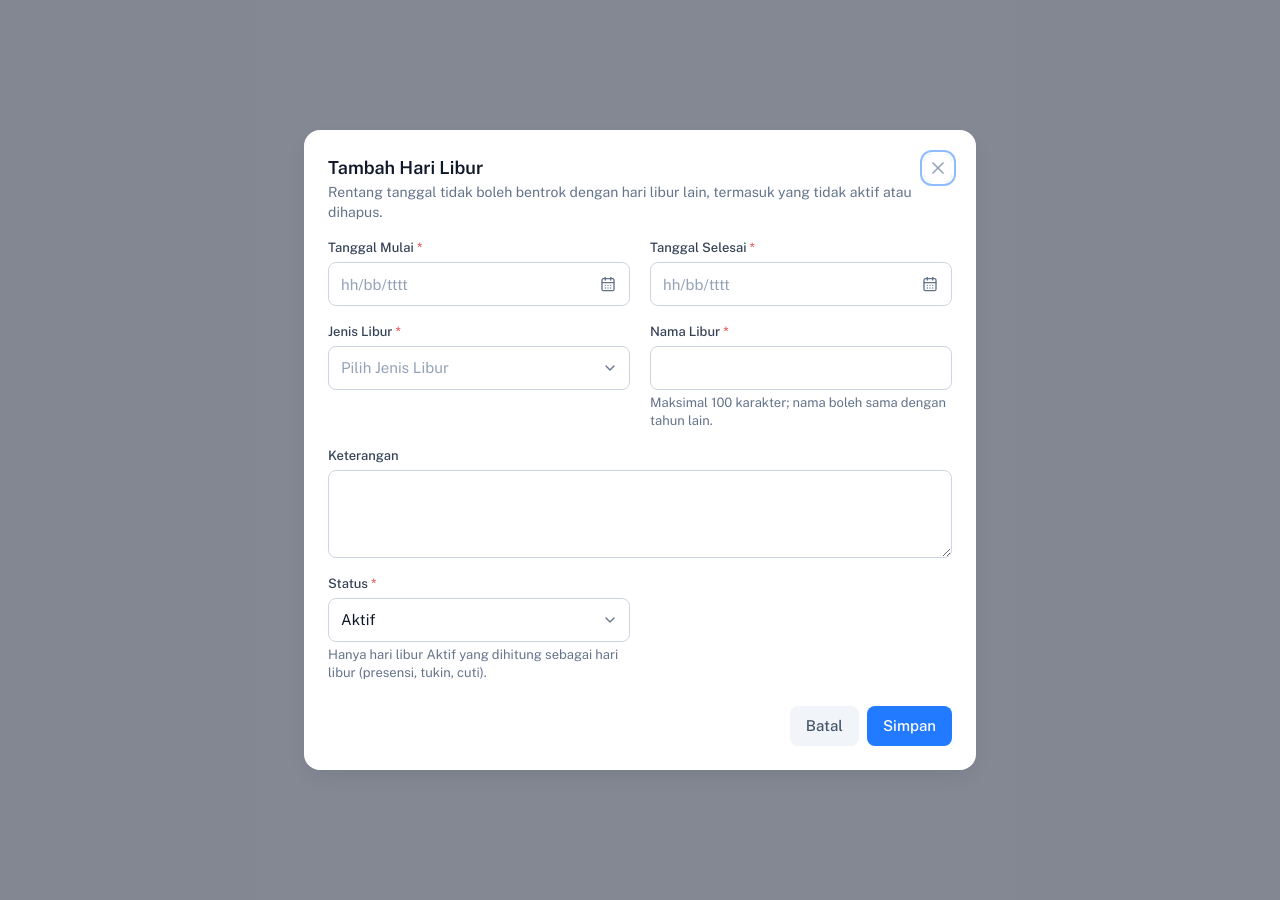
Test case: HariLiburFormDialog › tanggal mulai diketik per digit: tanggal selesai ikut tahun akhir, berhenti mengikuti setelah disentuh
Type "0002-08-17" into the field named "tgl_mulai".
click(479, 284); type("0002-08-17")  # box [328, 262, 630, 306]
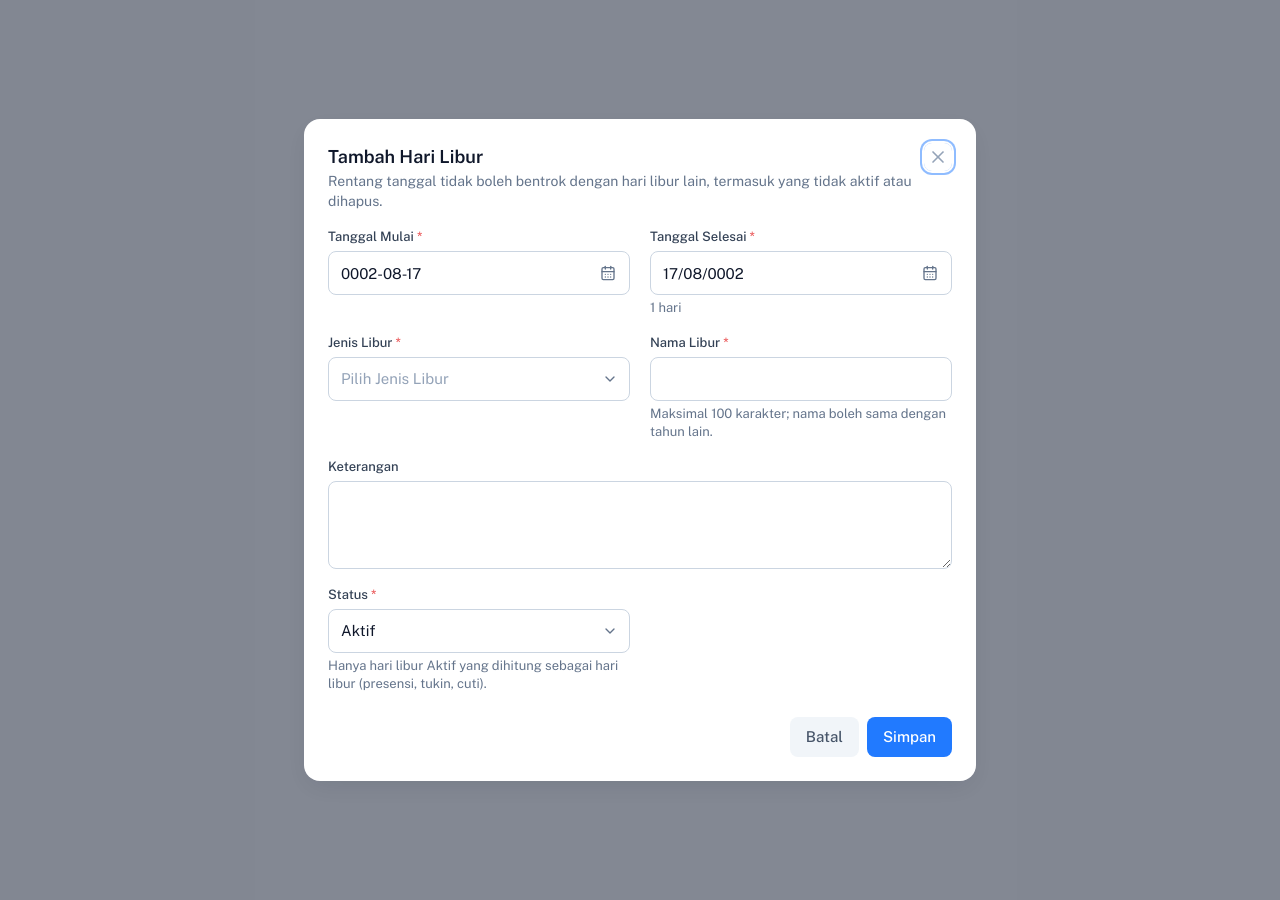
Replace the text in the field named "tgl_mulai" with "0020-08-17" at (479, 273), box [328, 251, 630, 295]
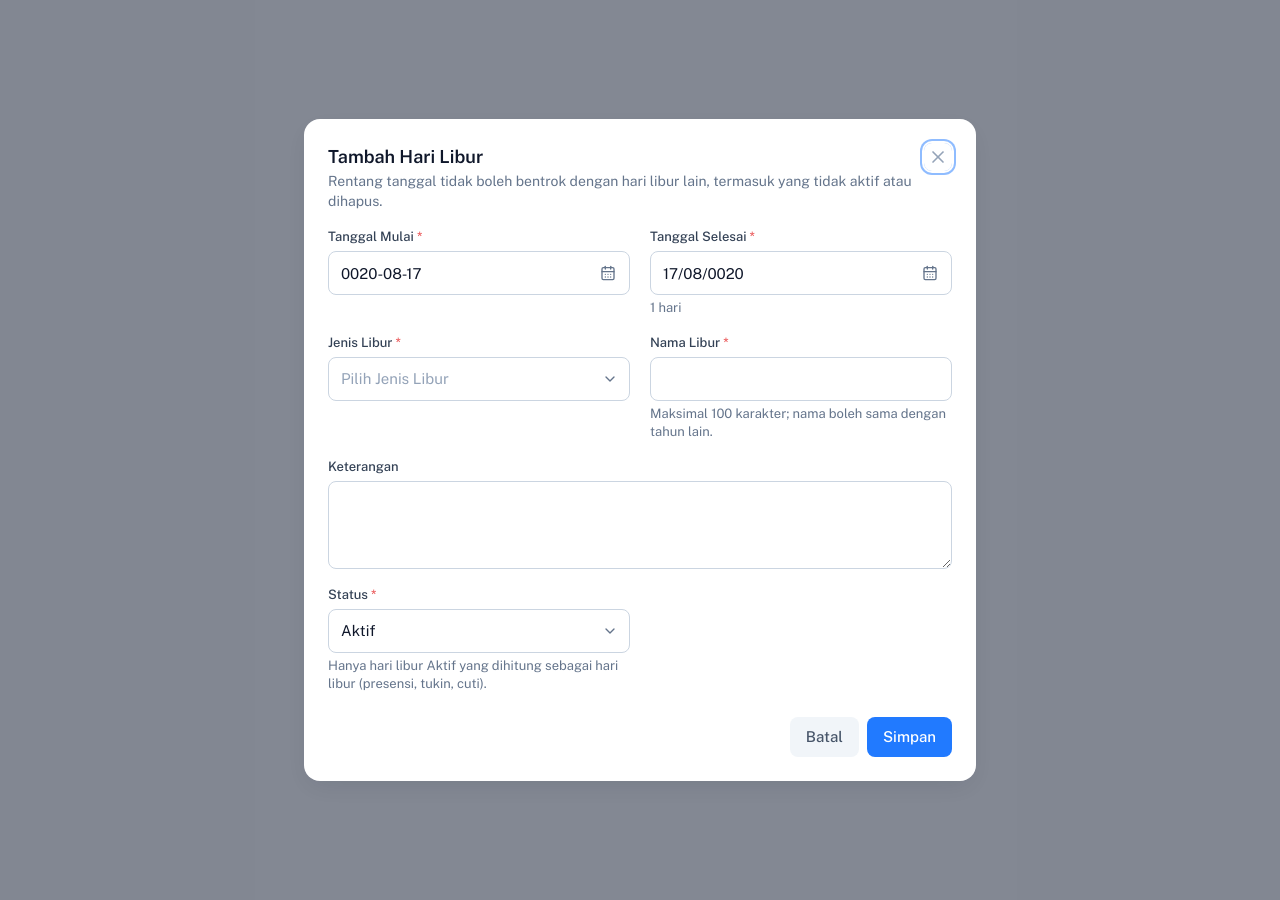
Replace the text in the field named "tgl_mulai" with "0202-08-17" at (479, 273), box [328, 251, 630, 295]
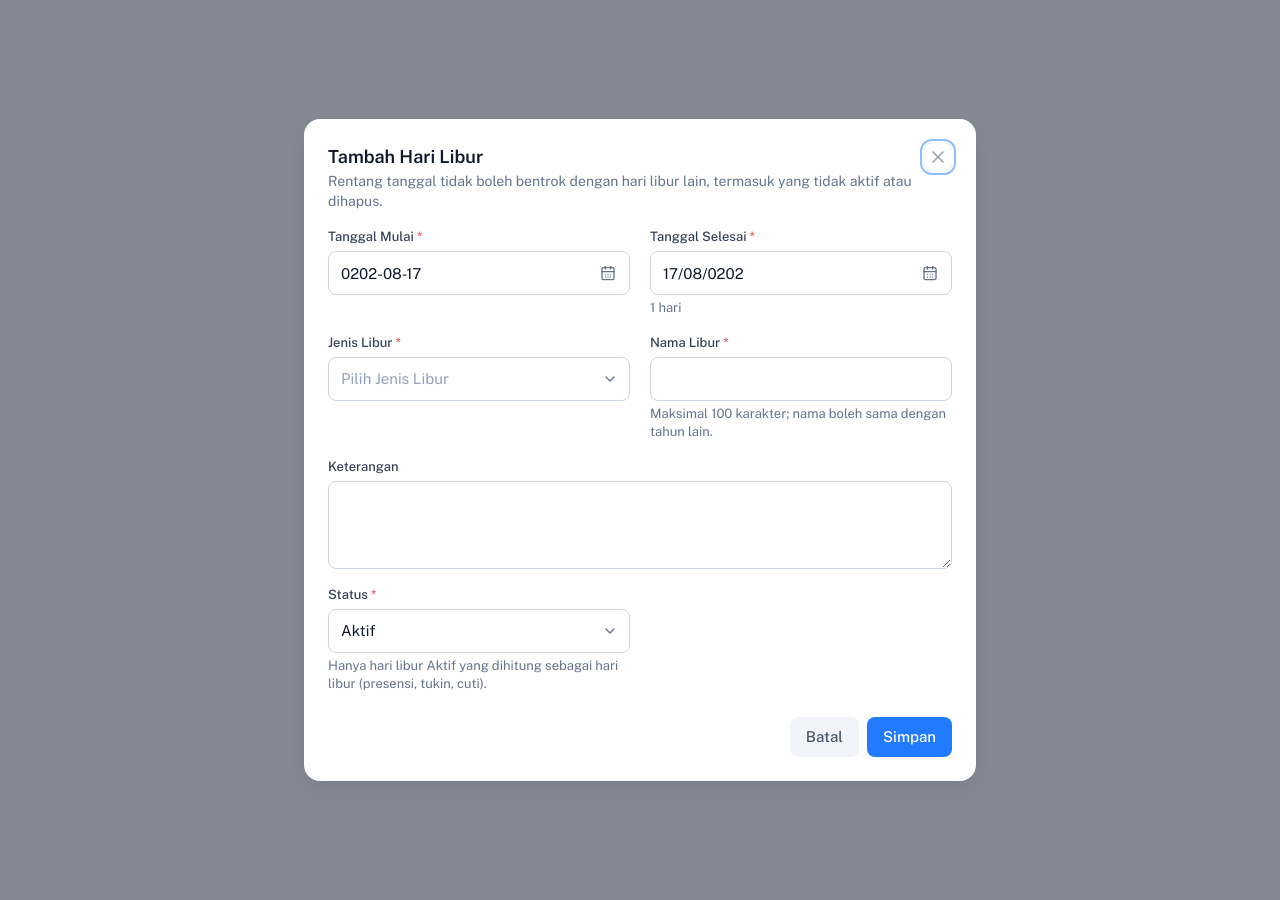
Replace the text in the field named "tgl_mulai" with "2026-08-17" at (479, 273), box [328, 251, 630, 295]
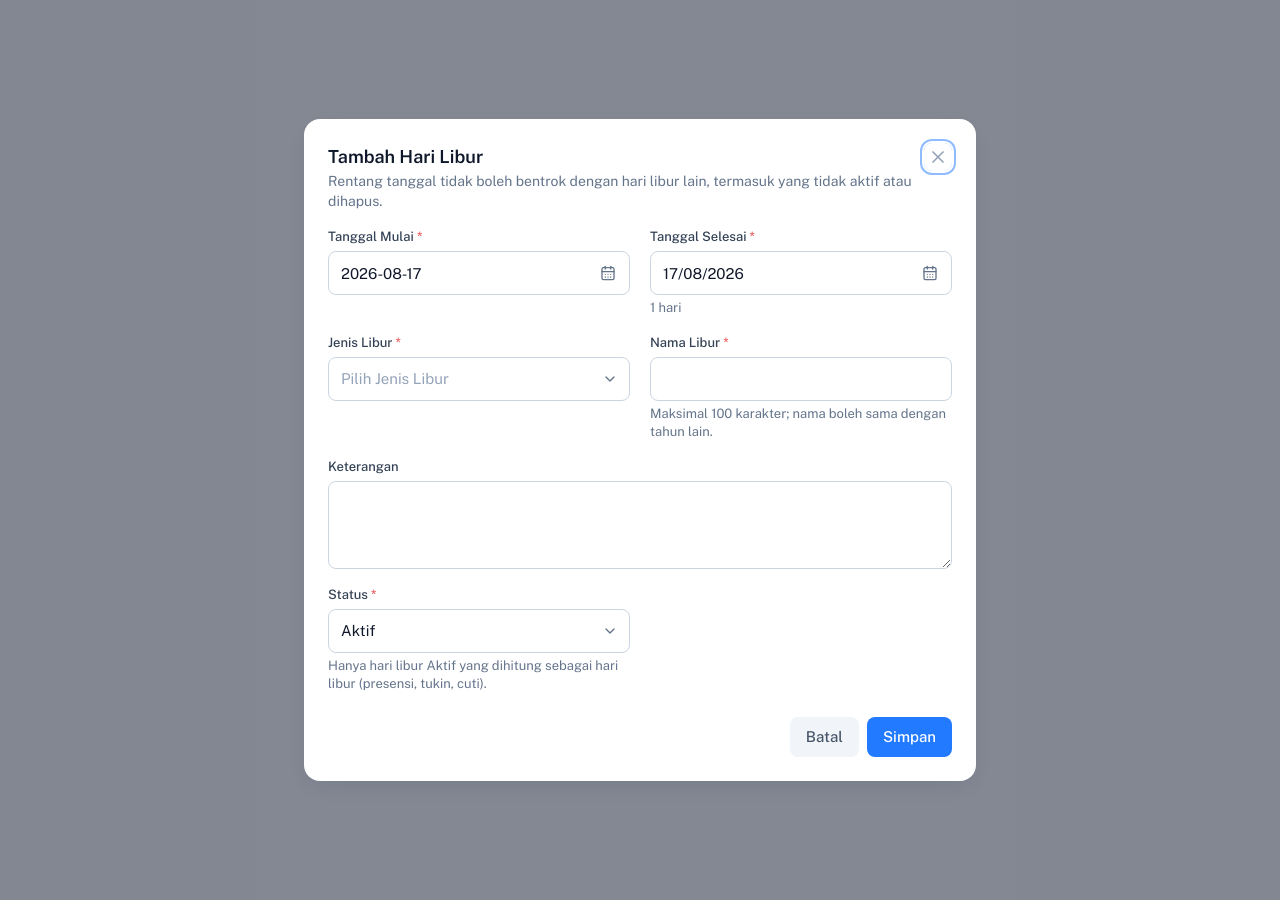
Check: the field named "tgl_akhir" holds "17/08/2026"
Replace the text in the field named "tgl_akhir" with "2026-08-17" at (801, 273), box [650, 251, 952, 295]
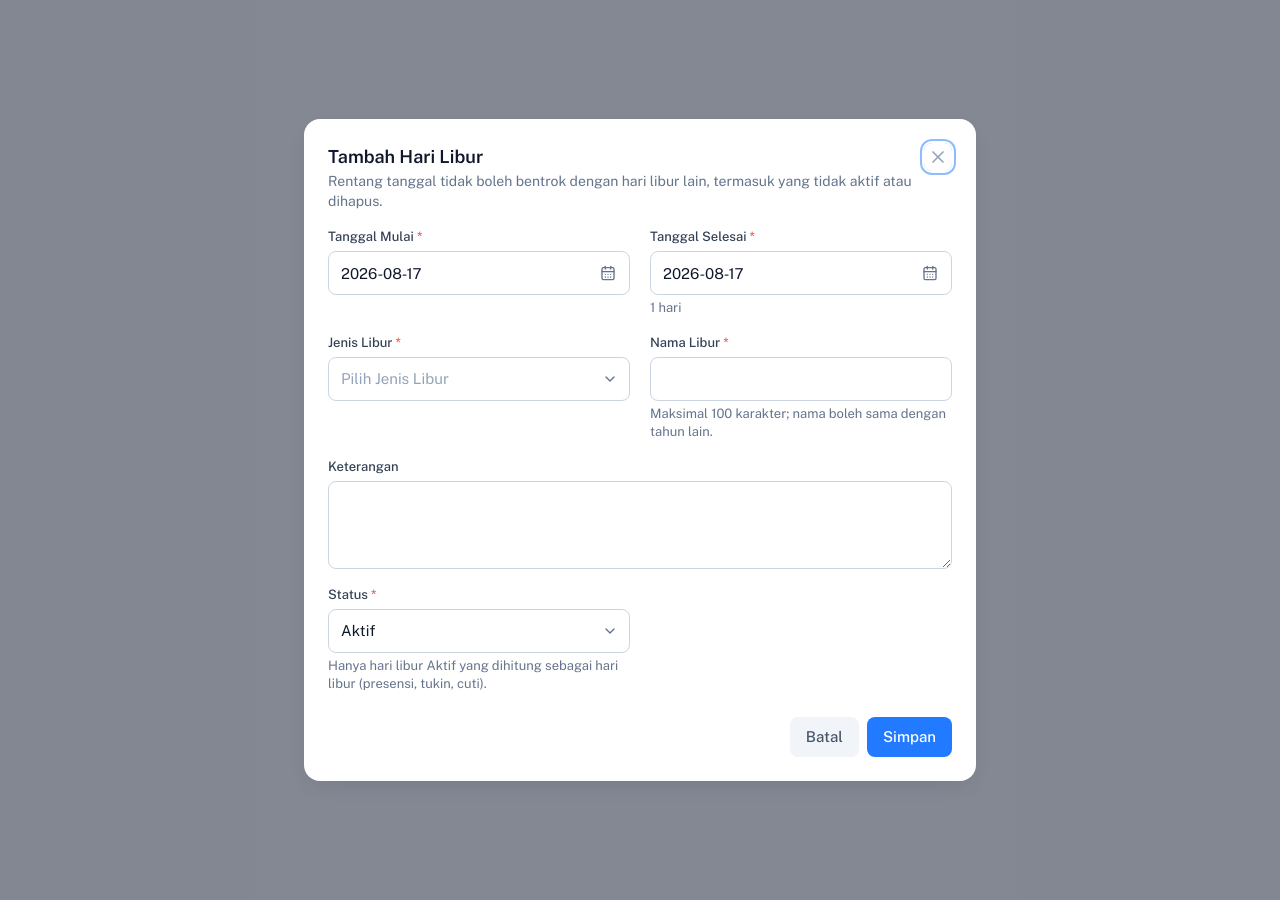
Replace the text in the field named "tgl_mulai" with "2026-08-16" at (479, 273), box [328, 251, 630, 295]
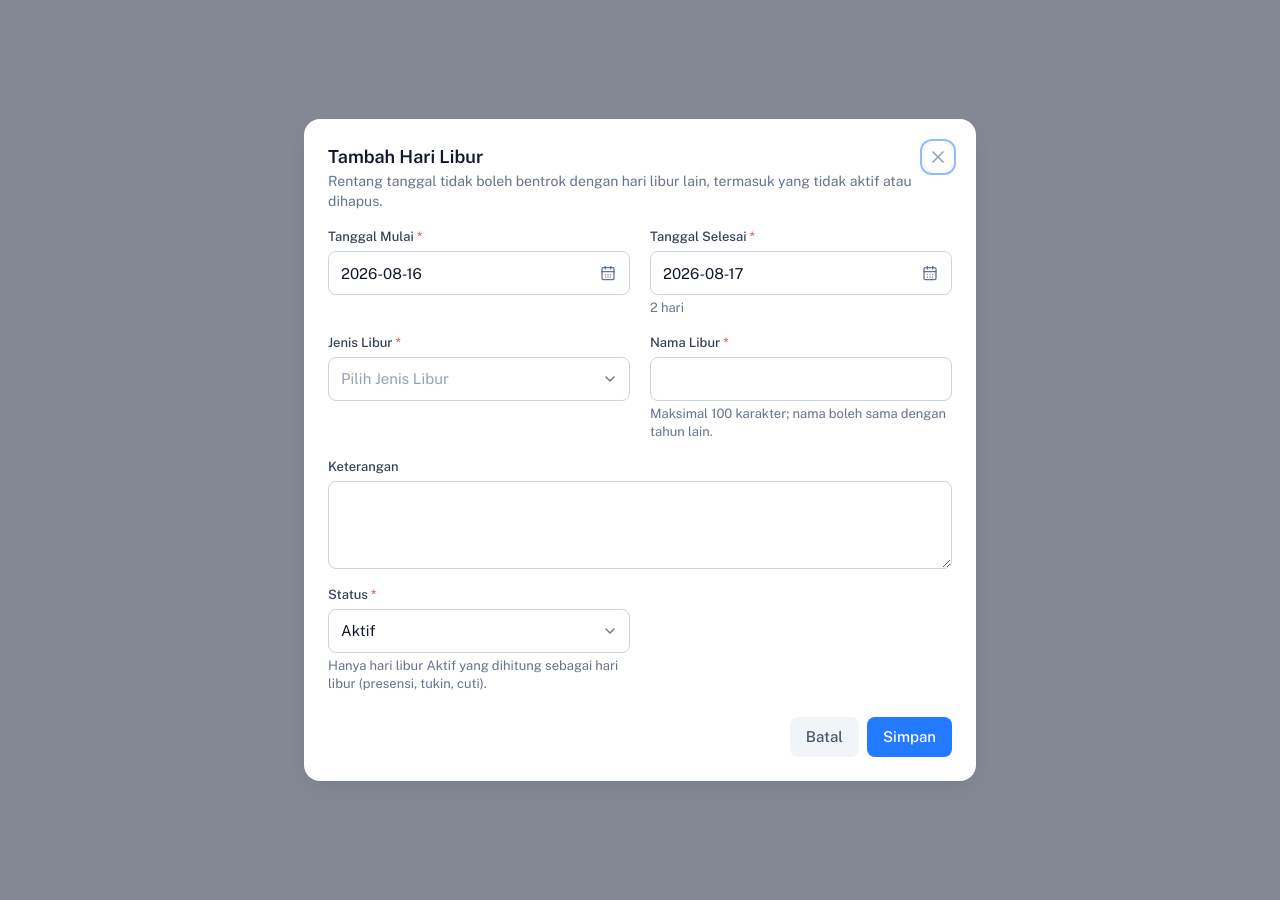
Check: the text "2 hari" is shown, box [650, 300, 684, 315]
